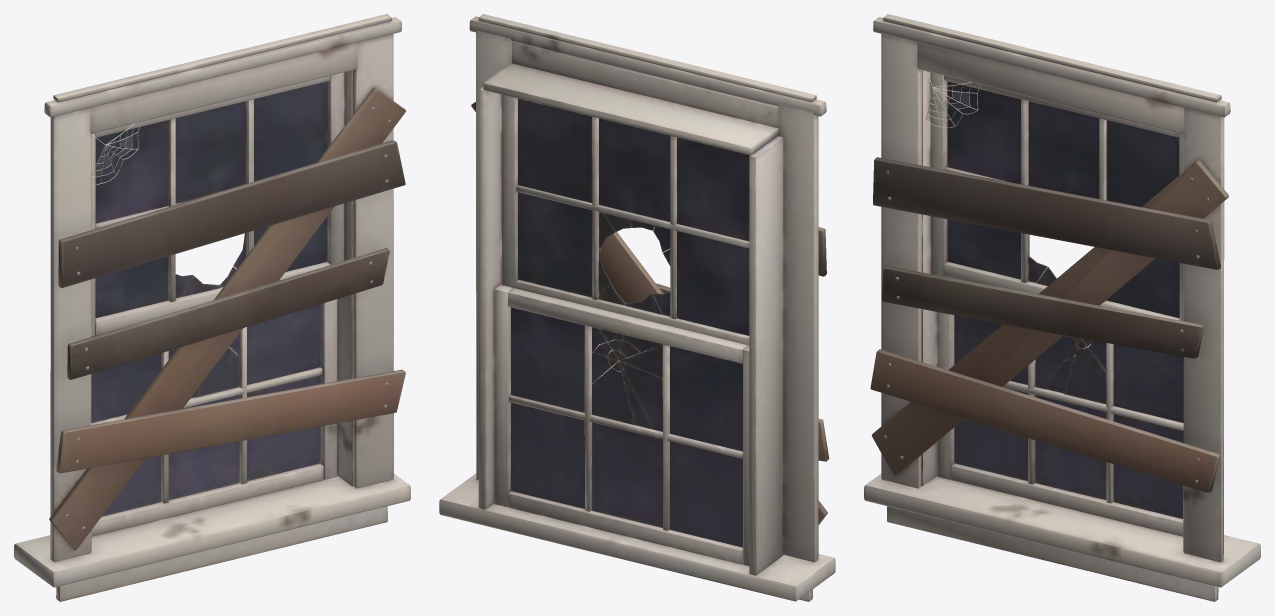
File: boarded_window.glb
3 views of the same model, side by side, from view 1: azimuth 30°, elevation 25°; view 2: azimuth 150°, elevation 25°; view 3: azimuth 330°, elevation 25° (orthographic).
Parts seen in each view (by area): view 1: boarded-window_body, boarded-window_web; view 2: boarded-window_body; view 3: boarded-window_body, boarded-window_web.
Part boxes in pixels (<box>): boarded-window_body: <box>14,14,410,601</box>; boarded-window_web: <box>91,122,140,185</box>; boarded-window_body: <box>439,14,835,601</box>; boarded-window_body: <box>864,14,1260,601</box>; boarded-window_web: <box>926,72,980,127</box>.
Bounding box in the file's own units: 1.2 × 1.61 × 0.2349.
Materials: 3 (1 with a texture image).
